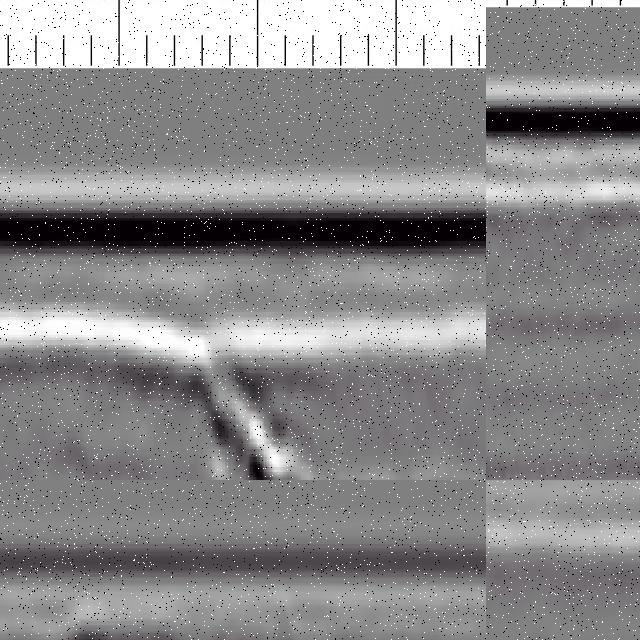crack: (487, 123, 501, 481)
loose: (192, 338, 327, 481)
